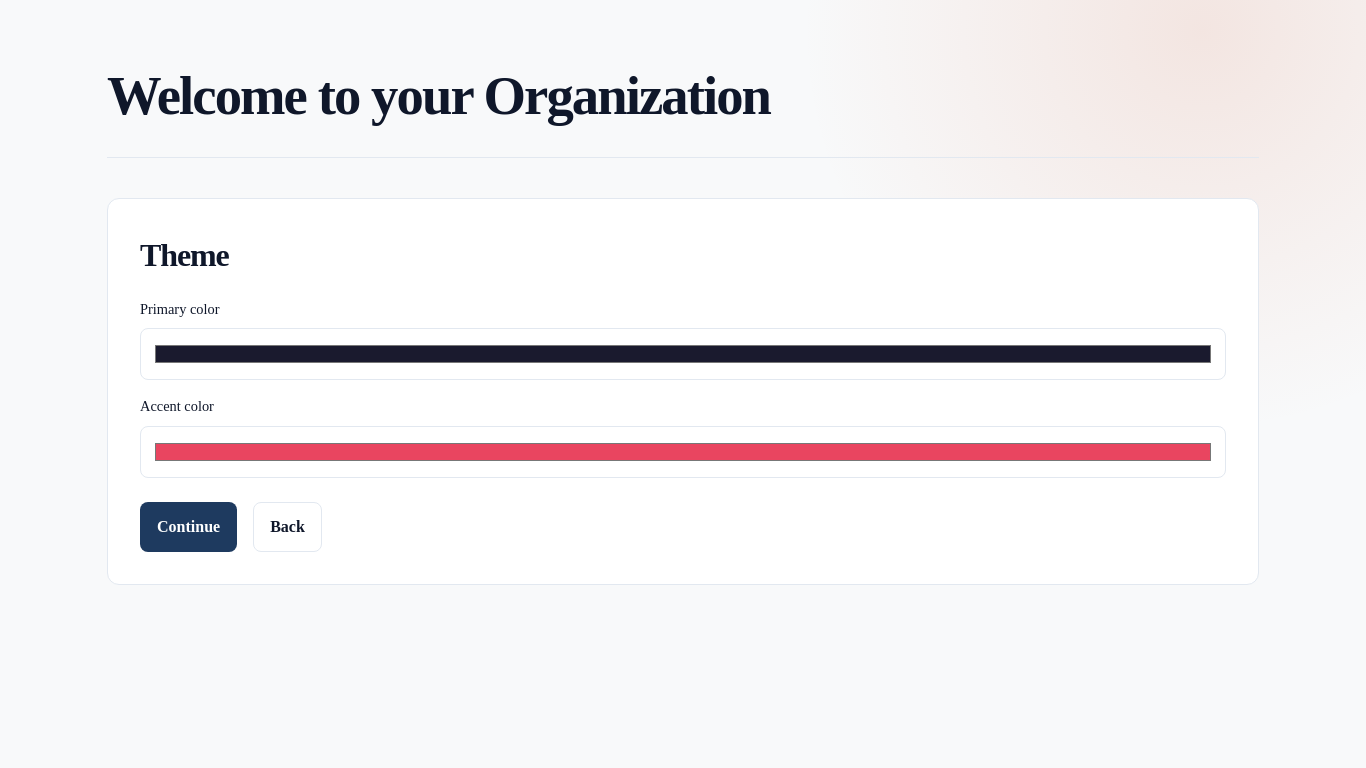
setup wizard completion › does not advance to the next step after a failed progress save
Click the button "Continue" at {"x": 189, "y": 527}, box [140,502,237,552]
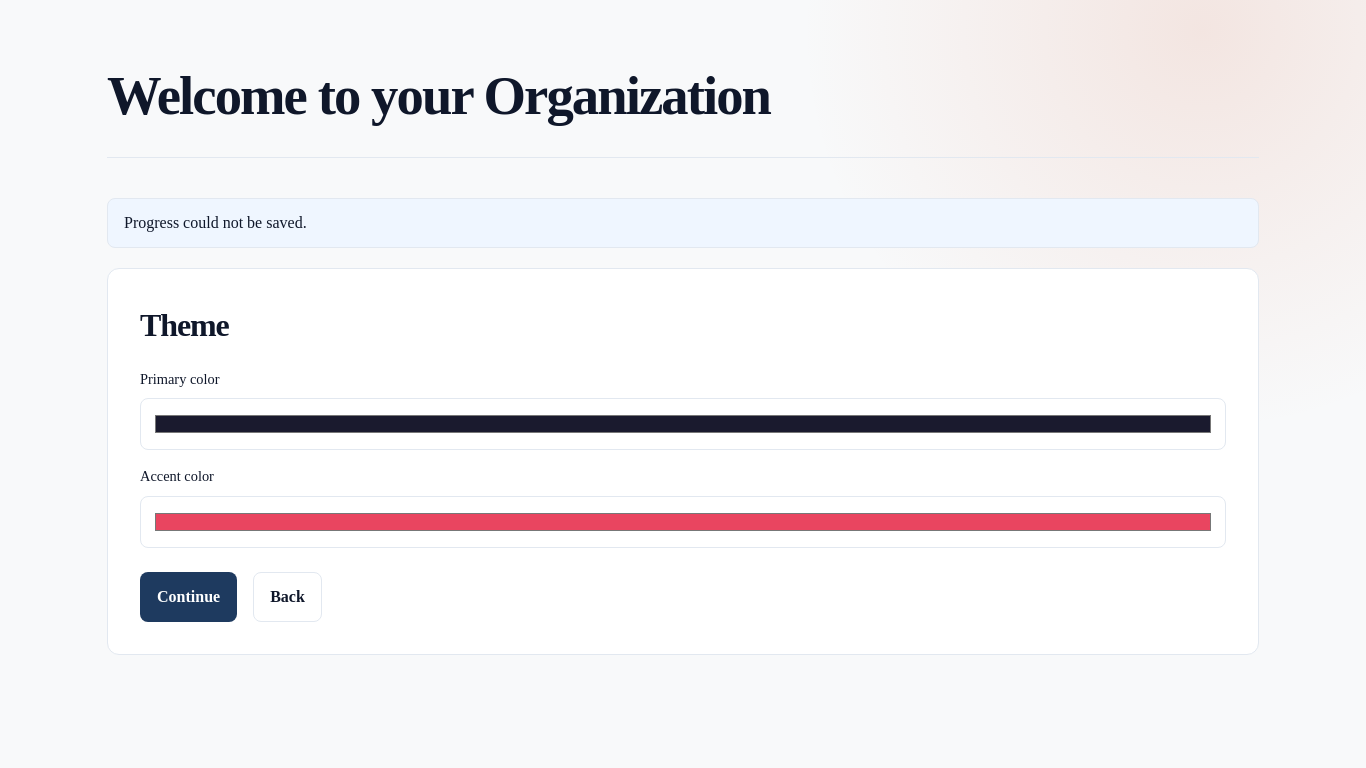
Expected: the heading "Theme" is shown, [140,307,229,343]
Result: the message reads "Progress could not be saved." at [124,214,307,231]
